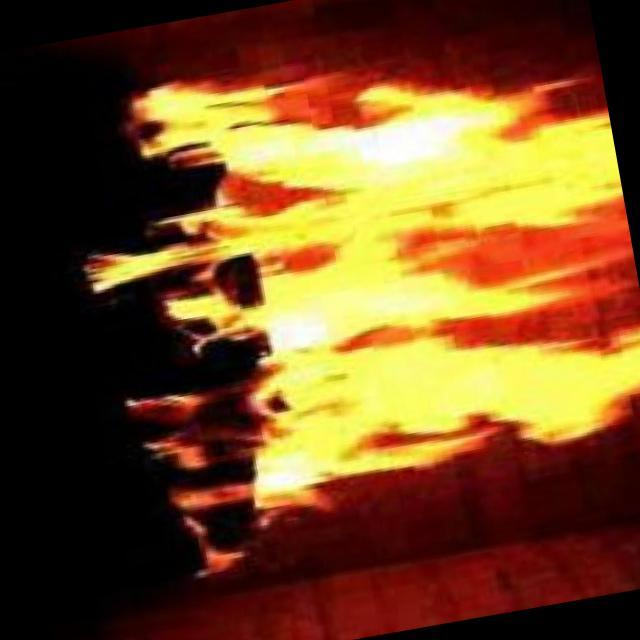Fire: (143, 31, 640, 518)
